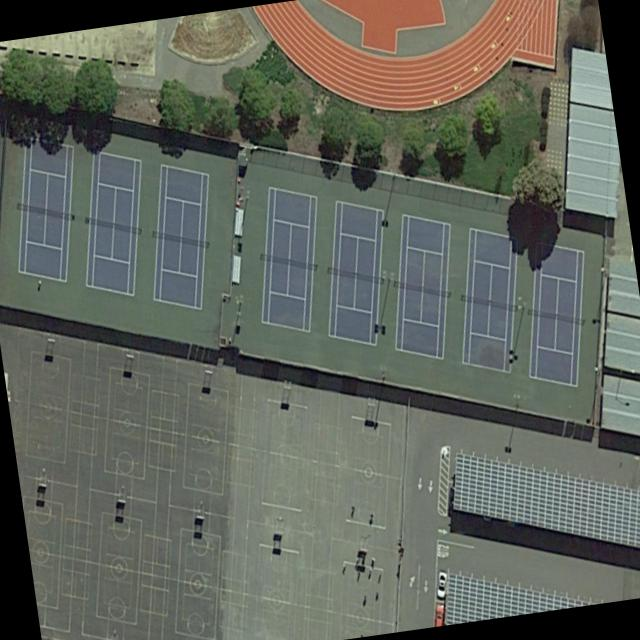small-vehicle: (437, 570, 448, 602)
